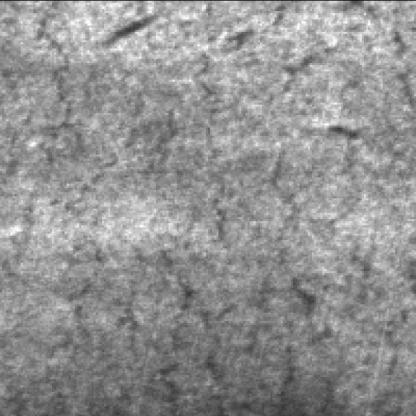crazing: (193, 0, 360, 248), (64, 270, 341, 414), (19, 0, 127, 277)
